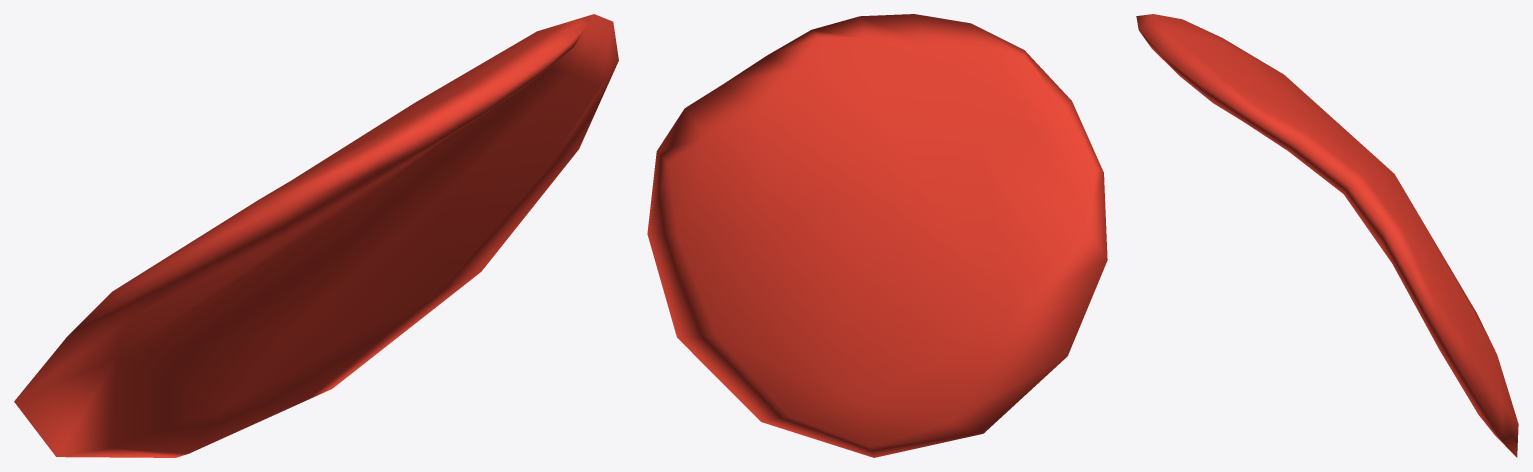
File: Rectus_anterior_capitis_muscle-Occipital_insertion.l_Generated_.glb
3 views of the same model, side by side, from view 1: azimuth 30°, elevation 25°; view 2: azimuth 150°, elevation 25°; view 3: azimuth 270°, elevation 25° (orthographic). The views are drawn at different scales.
Visible parts, largest first — view 1: Rectus_anterior_capitis_muscle-Occipital_insertion.l_Generat; view 2: Rectus_anterior_capitis_muscle-Occipital_insertion.l_Generat; view 3: Rectus_anterior_capitis_muscle-Occipital_insertion.l_Generat.
Part boxes in pixels (x1,y1,x2,y2): Rectus_anterior_capitis_muscle-Occipital_insertion.l_Generat: (14,14,618,457); Rectus_anterior_capitis_muscle-Occipital_insertion.l_Generat: (647,14,1107,457); Rectus_anterior_capitis_muscle-Occipital_insertion.l_Generat: (1136,14,1518,457).
Size of the model in its own units: 0.00721 by 0.00552 by 0.00463.
